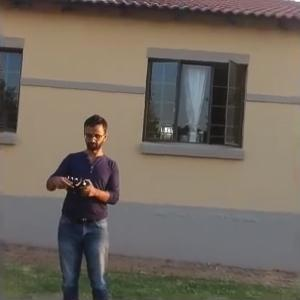follow: (41, 106, 129, 298)
